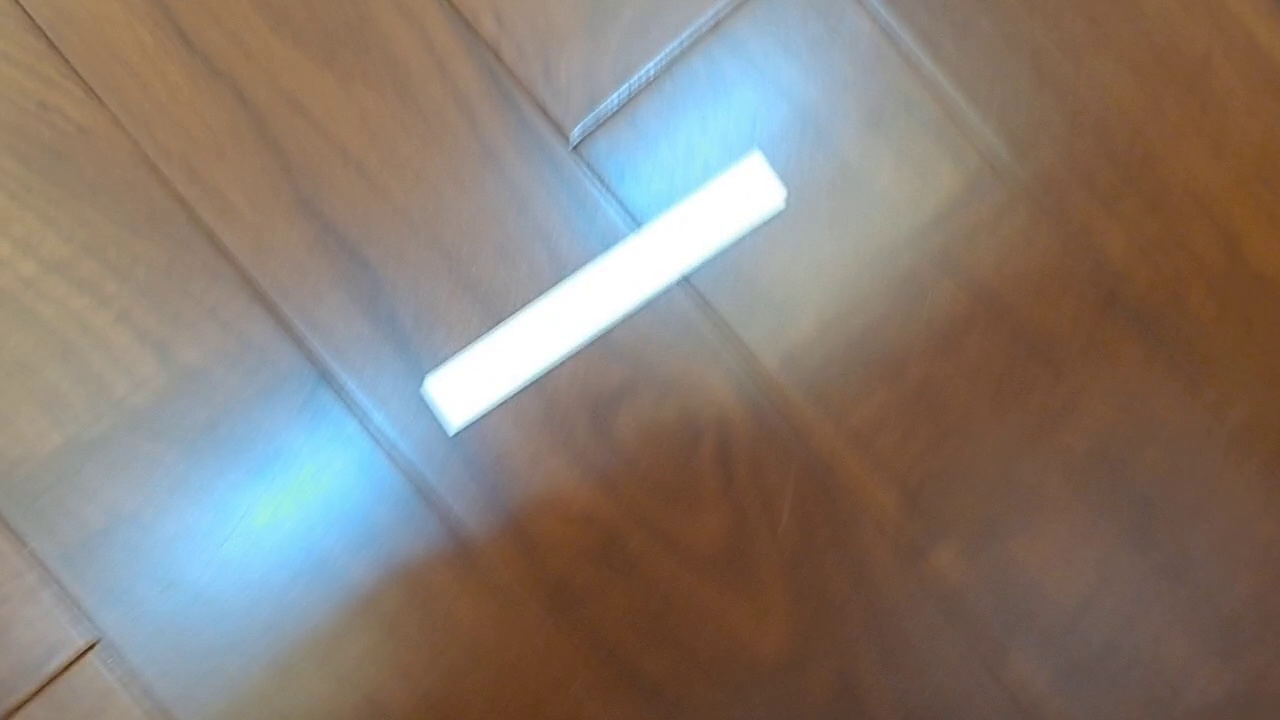ruler: (417, 144, 789, 440)
